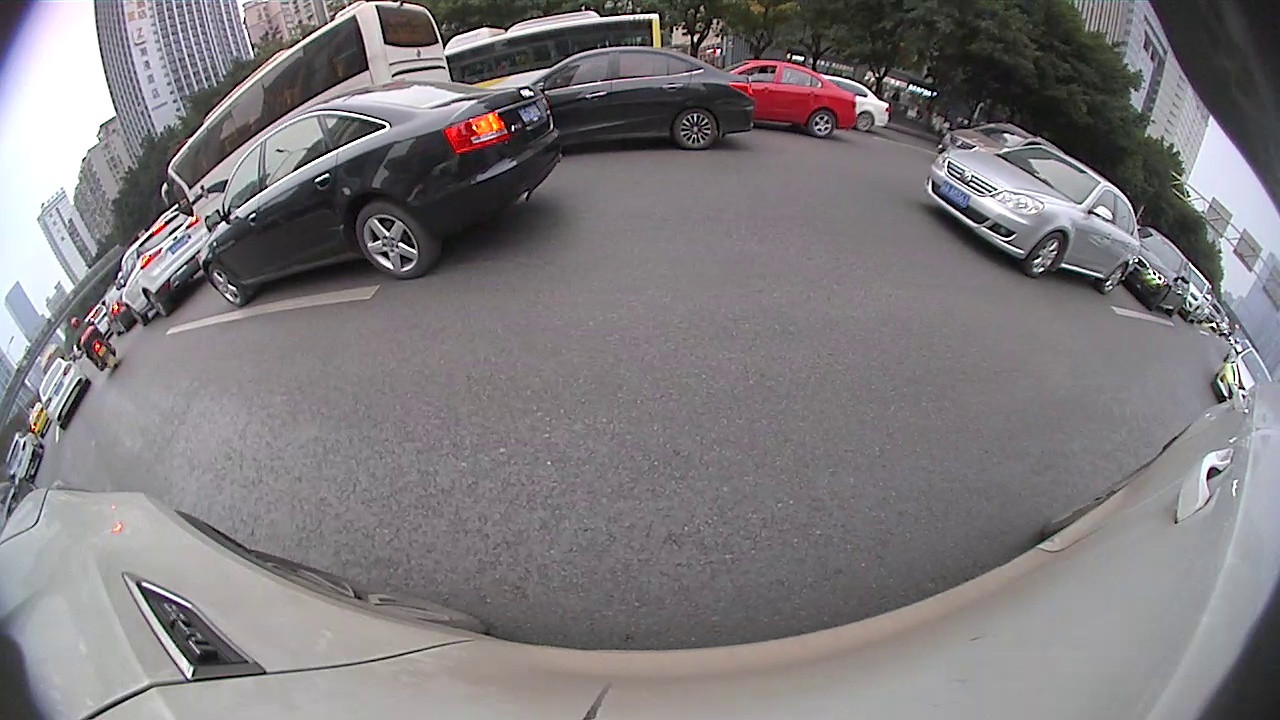bus: (160, 3, 455, 209), (442, 10, 659, 84)
car: (201, 79, 566, 310), (919, 140, 1141, 297), (517, 45, 758, 153), (115, 209, 215, 328), (720, 58, 857, 139), (1127, 222, 1189, 323), (929, 123, 1069, 159), (812, 74, 893, 134), (1213, 343, 1277, 413), (36, 358, 92, 426), (1177, 260, 1212, 330), (1, 431, 45, 482)
front: (1026, 232, 1067, 280), (209, 262, 245, 306), (127, 304, 145, 324)
rear: (359, 205, 438, 276), (676, 111, 718, 148), (1100, 263, 1129, 293), (810, 111, 835, 138), (145, 289, 169, 317), (856, 111, 873, 131)
rider: (69, 315, 118, 374)
